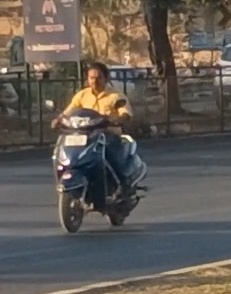BikeWithRider: (46, 61, 152, 235)
NoHelmet: (85, 62, 110, 91)
